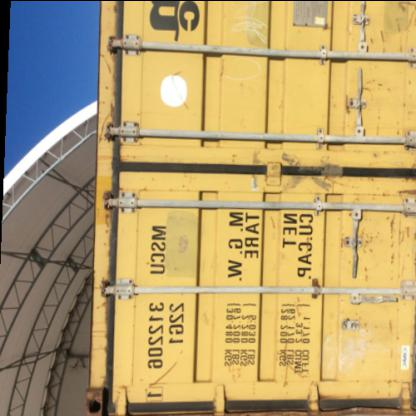Damage: (384, 206, 416, 276), (348, 221, 376, 280), (305, 388, 368, 414), (338, 186, 415, 206), (97, 95, 121, 154), (96, 184, 120, 243), (278, 342, 310, 386), (93, 282, 110, 356), (390, 1, 412, 57), (144, 357, 182, 388), (162, 69, 188, 109), (356, 74, 392, 98), (384, 340, 412, 370), (393, 101, 414, 137), (377, 374, 403, 402), (326, 91, 352, 119), (223, 359, 250, 385), (358, 316, 378, 348), (360, 26, 384, 52), (299, 231, 314, 267), (362, 148, 396, 162), (96, 48, 114, 72), (367, 108, 382, 134), (214, 58, 226, 84), (132, 182, 150, 197), (223, 147, 237, 165), (102, 1, 120, 15), (261, 215, 277, 229), (382, 313, 392, 331), (98, 81, 113, 89), (97, 372, 105, 379)
